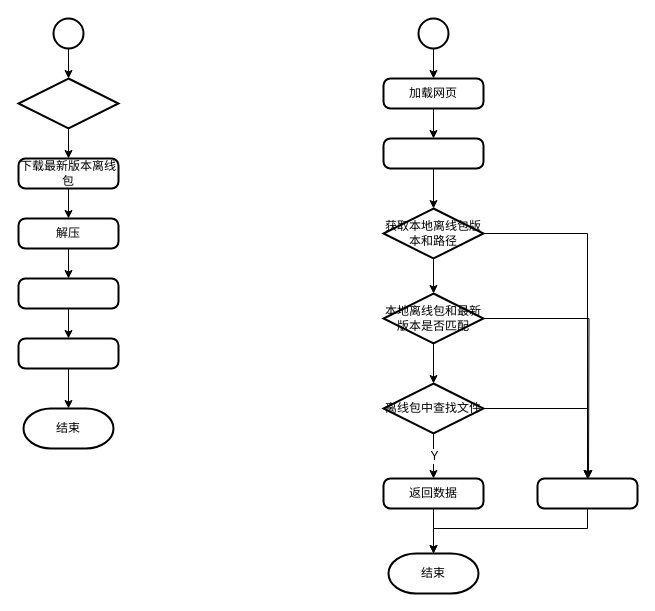
Image size: 655x611. Some labels were removed from this diagram. Here are the shapes that lost their labels. From the top down, the box of each, then its label:
(17, 77, 119, 129): 检查新版本？
(382, 137, 484, 169): 拦截网页请求
(17, 277, 119, 309): 修改本地最新离线包版本号
(17, 337, 119, 369): 删除旧离线包
(536, 477, 638, 509): 发起网络请求
